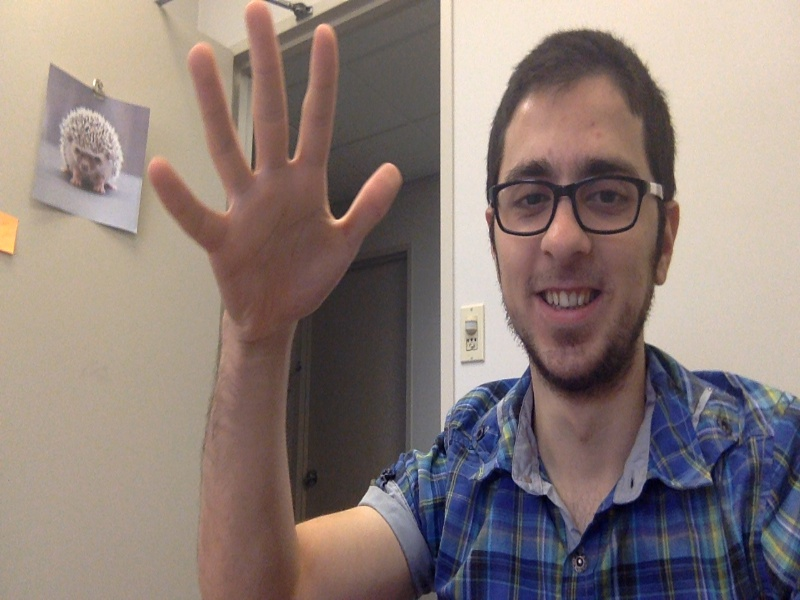5-hand: (147, 3, 403, 339)
